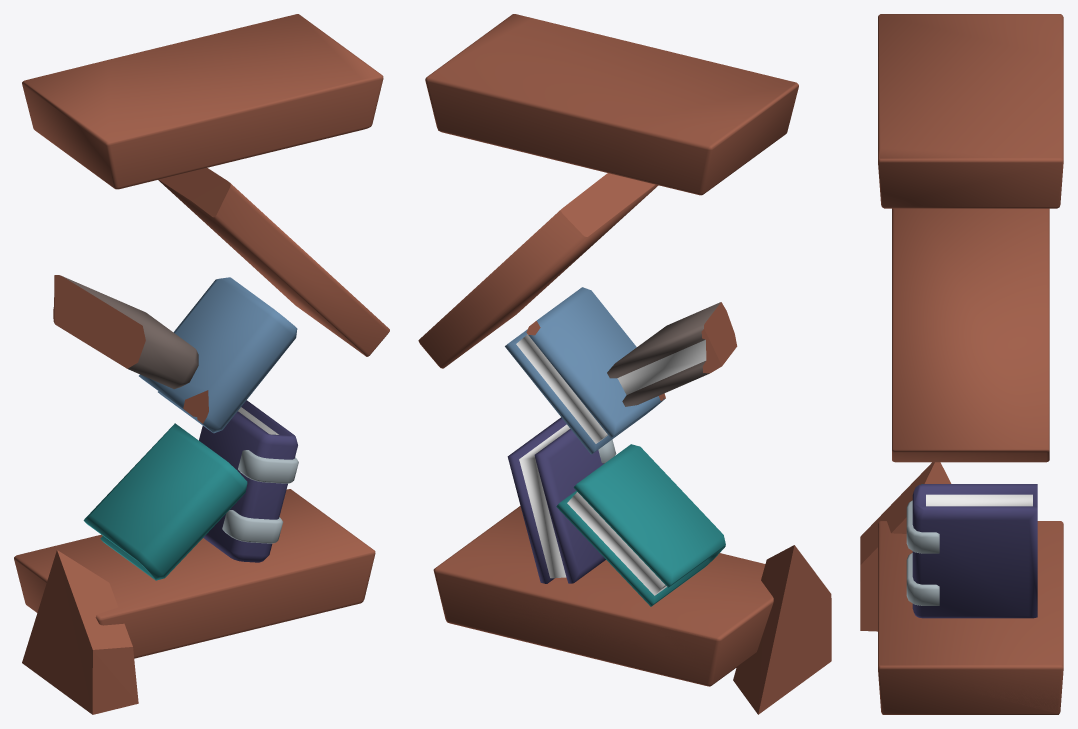
Rendered from DestroyedBookcase MODEL.fbx.
The picture shows the model from 3 angles, left to right: view 1: azimuth 30°, elevation 25°; view 2: azimuth 150°, elevation 25°; view 3: azimuth 270°, elevation 25°; orthographic projection. The views are drawn at different scales.
Visible parts, largest first — view 1: bookcaseFilled_broken_cell.003, bookcaseFilled_broken_cell.004, bookcaseFilled_broken_cell.013, bookcaseFilled_broken_cell.006, bookcaseFilled_broken_cell.008, bookcaseFilled_broken_cell.012, bookcaseFilled_broken_cell.014, bookcaseFilled_broken_cell.009, bookcaseFilled_broken_cell.007, bookcaseFilled_broken_cell.010, bookcaseFilled_broken_cell.011; view 2: bookcaseFilled_broken_cell.003, bookcaseFilled_broken_cell.004, bookcaseFilled_broken_cell.013, bookcaseFilled_broken_cell.012, bookcaseFilled_broken_cell.007, bookcaseFilled_broken_cell.008, bookcaseFilled_broken_cell.006, bookcaseFilled_broken_cell.009, bookcaseFilled_broken_cell.014; view 3: bookcaseFilled_broken_cell.008, bookcaseFilled_broken_cell.003, bookcaseFilled_broken_cell.009, bookcaseFilled_broken_cell.004, bookcaseFilled_broken_cell.007, bookcaseFilled_broken_cell.006, bookcaseFilled_broken_cell.010, bookcaseFilled_broken_cell.011.
Part boxes in pixels (x1,y1,x2,y2): bookcaseFilled_broken_cell.003: (22,14,383,189); bookcaseFilled_broken_cell.004: (14,489,375,658); bookcaseFilled_broken_cell.013: (83,423,247,580); bookcaseFilled_broken_cell.006: (22,550,138,714); bookcaseFilled_broken_cell.008: (158,168,389,356); bookcaseFilled_broken_cell.012: (139,277,297,433); bookcaseFilled_broken_cell.014: (53,275,198,389); bookcaseFilled_broken_cell.009: (199,400,297,562); bookcaseFilled_broken_cell.007: (14,489,374,642); bookcaseFilled_broken_cell.010: (238,450,298,483); bookcaseFilled_broken_cell.011: (222,510,283,543); bookcaseFilled_broken_cell.003: (425,14,798,195); bookcaseFilled_broken_cell.004: (434,507,773,686); bookcaseFilled_broken_cell.013: (556,444,725,606); bookcaseFilled_broken_cell.012: (505,287,665,454); bookcaseFilled_broken_cell.007: (433,506,773,686); bookcaseFilled_broken_cell.008: (418,173,658,368); bookcaseFilled_broken_cell.006: (733,545,831,714); bookcaseFilled_broken_cell.009: (507,417,605,583); bookcaseFilled_broken_cell.014: (607,302,737,406); bookcaseFilled_broken_cell.008: (892,208,1049,462); bookcaseFilled_broken_cell.003: (878,14,1063,208); bookcaseFilled_broken_cell.009: (912,484,1037,618); bookcaseFilled_broken_cell.004: (878,521,1063,714); bookcaseFilled_broken_cell.007: (878,521,1063,714); bookcaseFilled_broken_cell.006: (860,462,951,631); bookcaseFilled_broken_cell.010: (906,500,939,553); bookcaseFilled_broken_cell.011: (906,553,939,605).
Bounding box in the file's own units: 112 × 192 × 58.38.
